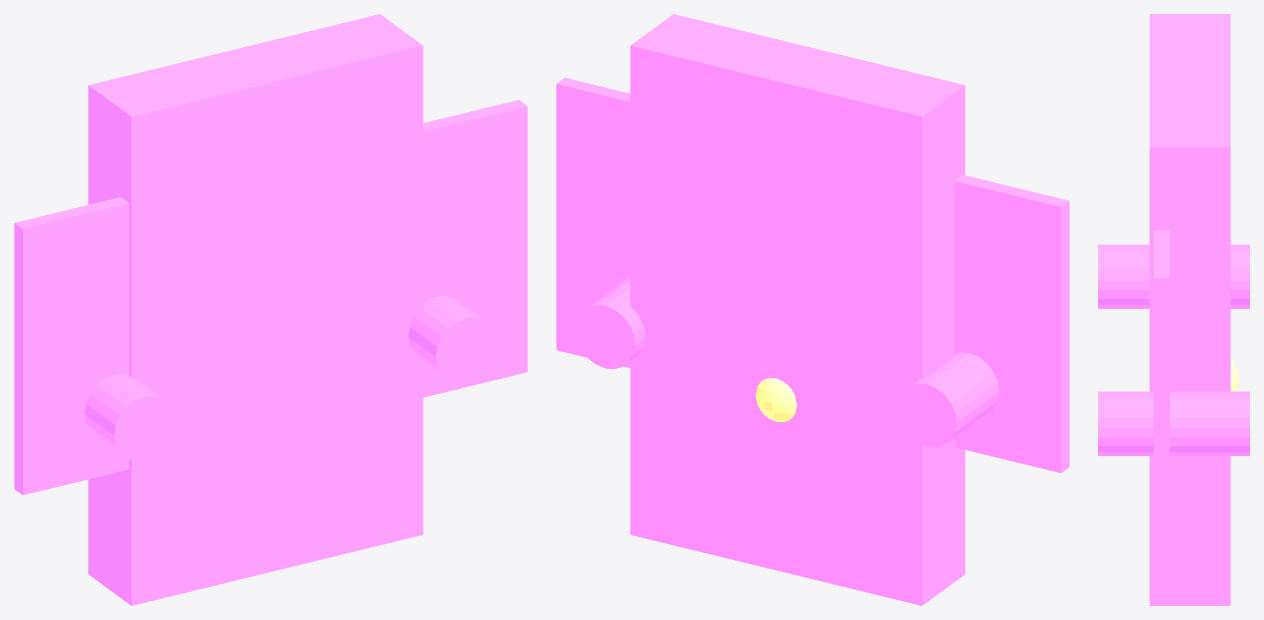
The model's file is enemy_heavy.glb.
3 renders of one model, left to right at view 1: azimuth 30°, elevation 25°; view 2: azimuth 150°, elevation 25°; view 3: azimuth 270°, elevation 25°, orthographic. The views are drawn at different scales.
Visible parts, largest first — view 1: body, wing, cannon_-1, cannon_1; view 2: body, wing, cannon_-1, cannon_1, core; view 3: body, cannon_1, wing, cannon_-1, core.
Boxes of the visible parts, <box> form: body: <box>88,14,423,605</box>; wing: <box>14,100,527,495</box>; cannon_-1: <box>84,374,173,460</box>; cannon_1: <box>408,296,495,381</box>; body: <box>630,14,965,605</box>; wing: <box>556,77,1069,472</box>; cannon_-1: <box>897,352,999,447</box>; cannon_1: <box>575,276,645,368</box>; core: <box>755,378,796,422</box>; body: <box>1149,14,1230,605</box>; cannon_1: <box>1098,391,1249,455</box>; wing: <box>1153,230,1169,528</box>; cannon_-1: <box>1098,244,1249,308</box>; core: <box>1230,358,1238,391</box>.
Bounding box in the file's own units: 2.7 × 2.5 × 0.75.
